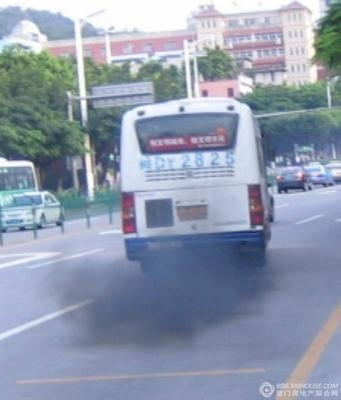smoke: (71, 248, 280, 348)
